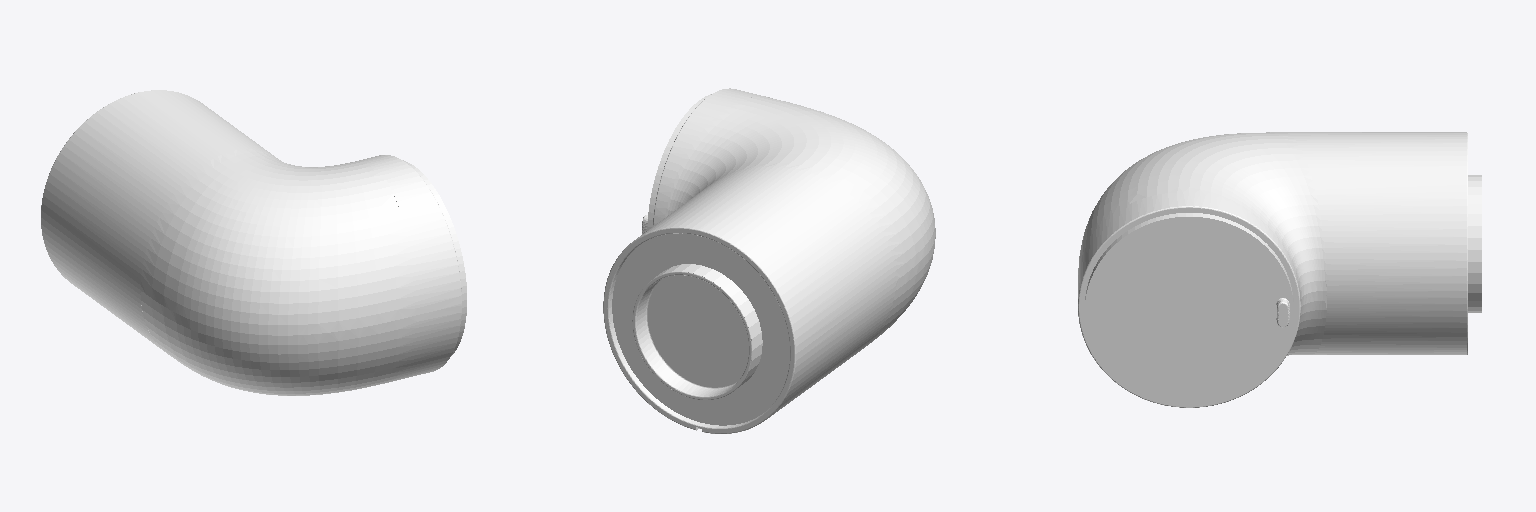
The model's file is joint2.obj.
3 views of the same model, side by side, from view 1: azimuth 30°, elevation 25°; view 2: azimuth 150°, elevation 25°; view 3: azimuth 270°, elevation 25° (orthographic).
Bounding box in the file's own units: 0.0605 × 0.048 × 0.0871.